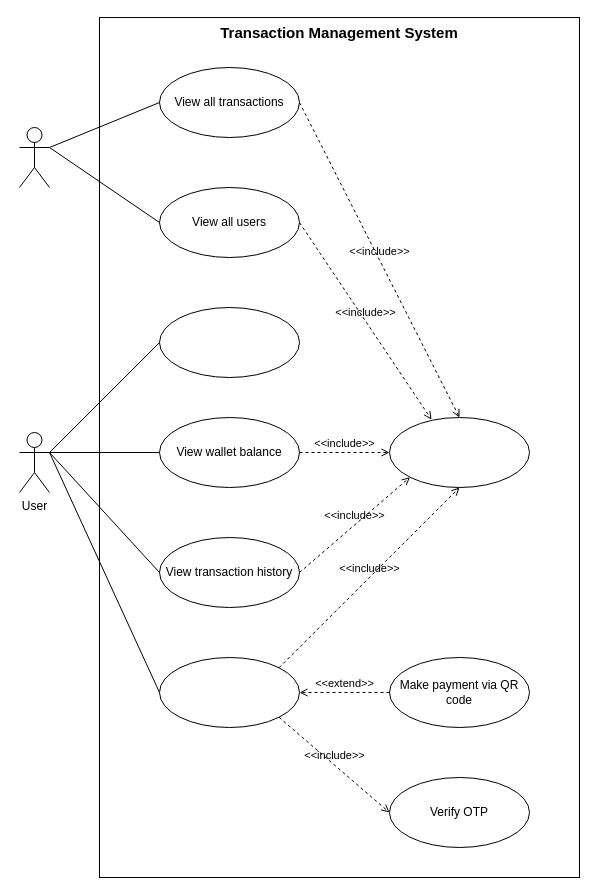
The diagram is 597 pixels wide and 895 high, and some of its shapes have lost their labels. The shapes that lost their labels are listed below. From the top down, each one's centre as x and y in pixels, then its label:
At point (34, 157): "Admin".
At point (229, 342): "Receive money".
At point (459, 452): "Authenticate user".
At point (229, 692): "Send money".
